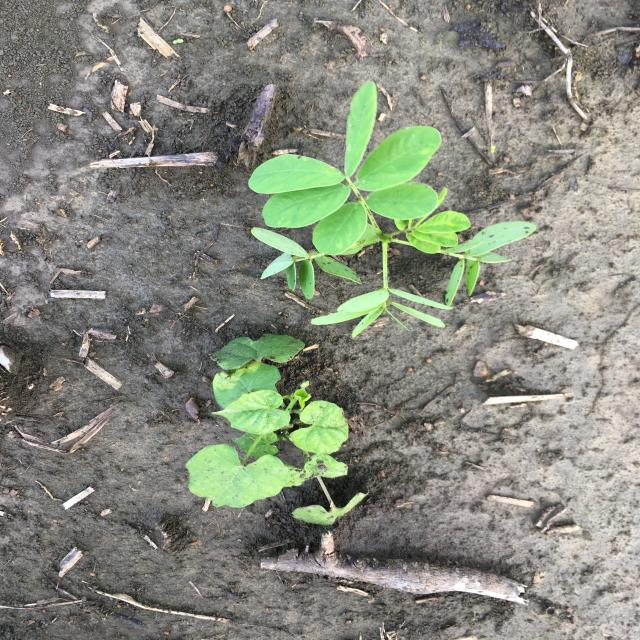MorningGlory: (184, 332, 372, 530)
Sicklepod: (250, 79, 540, 338)
